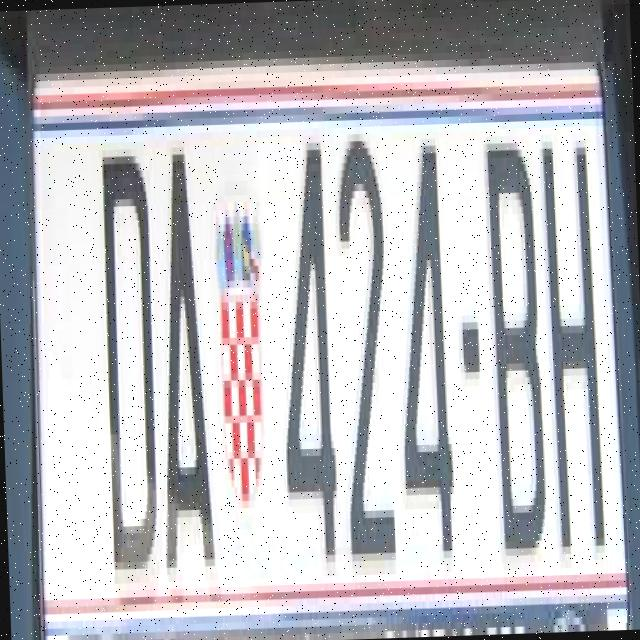Autre: (30, 66, 628, 640)
